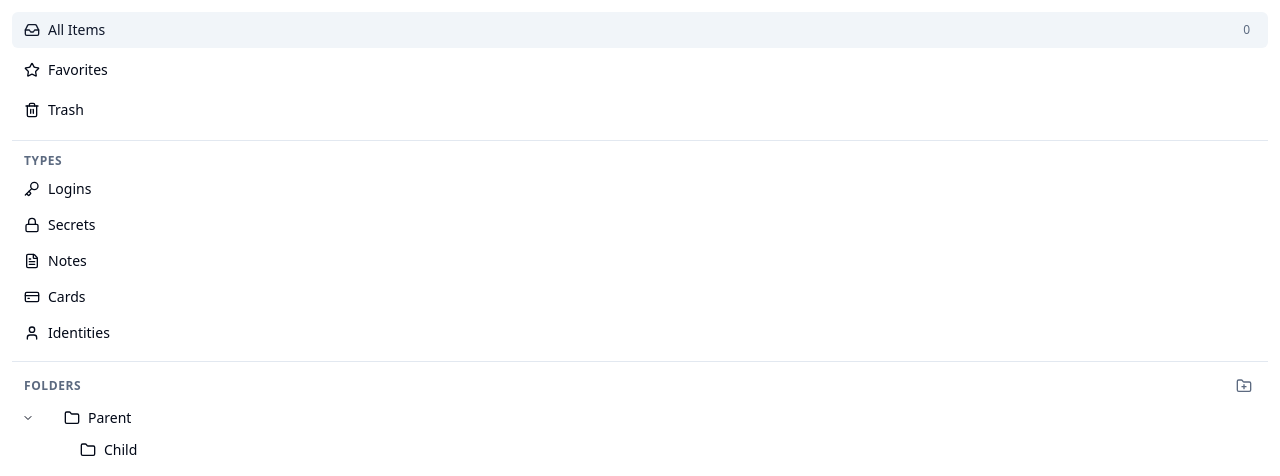
Scenario: FolderRail - expand/collapse nested folders › re-expands children when the expand chevron is clicked again
The width and height of the screenshot is (1280, 476).
Click the button named "Collapse folder": [28, 418] box [20,410,36,426]
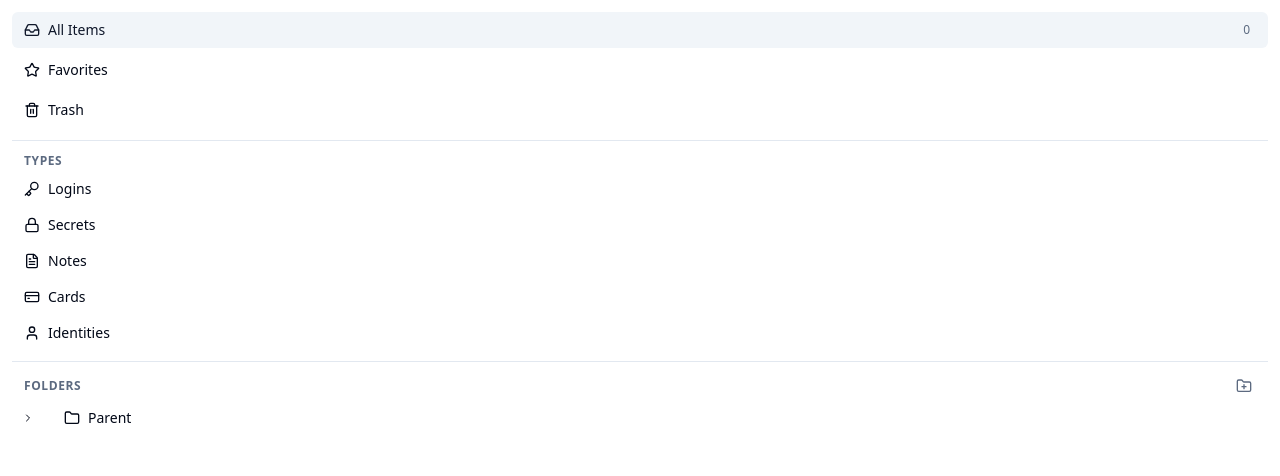
Now the button "Child" is gone
Click the button named "Expand folder": [28, 418] box [20,410,36,426]
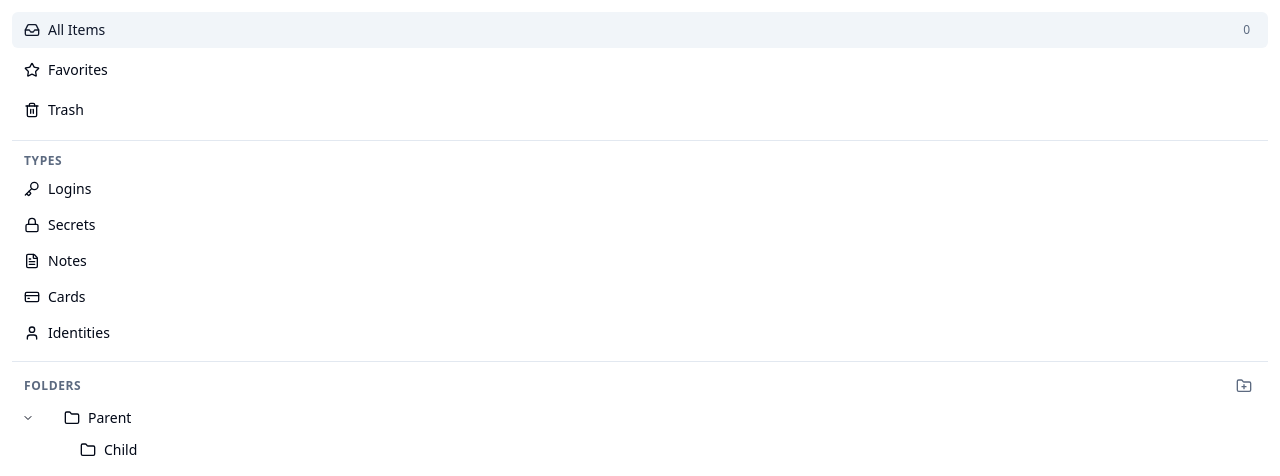
Now the text "Child" is shown, box [104,440,137,459]
